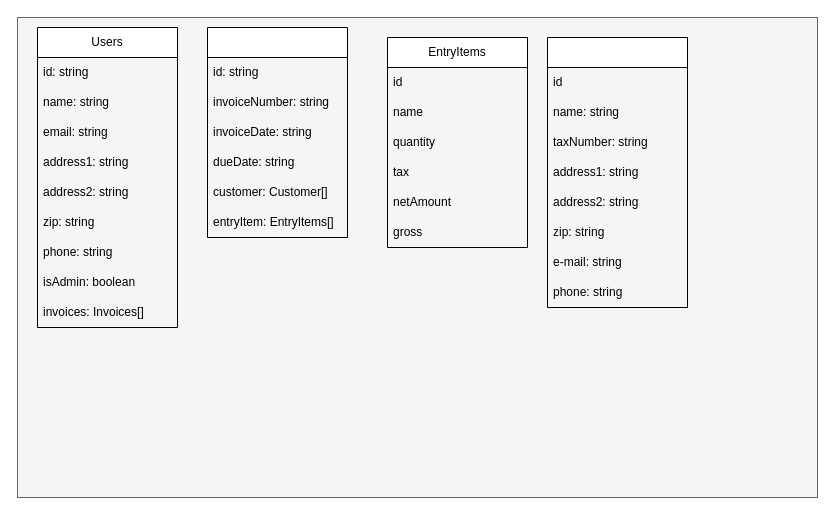
The diagram is 835 pixels wide and 515 high, and some of its shapes have lost their labels. Here are the shapes that lost their labels. From the top down, the box of each, then its label:
(206, 26, 348, 238): Invoices
(546, 36, 688, 308): Customers
